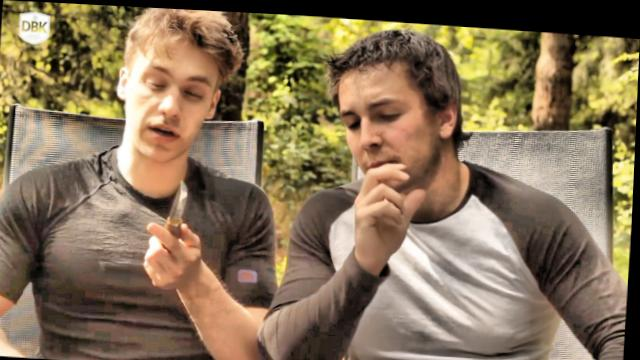knife: (139, 166, 209, 262)
